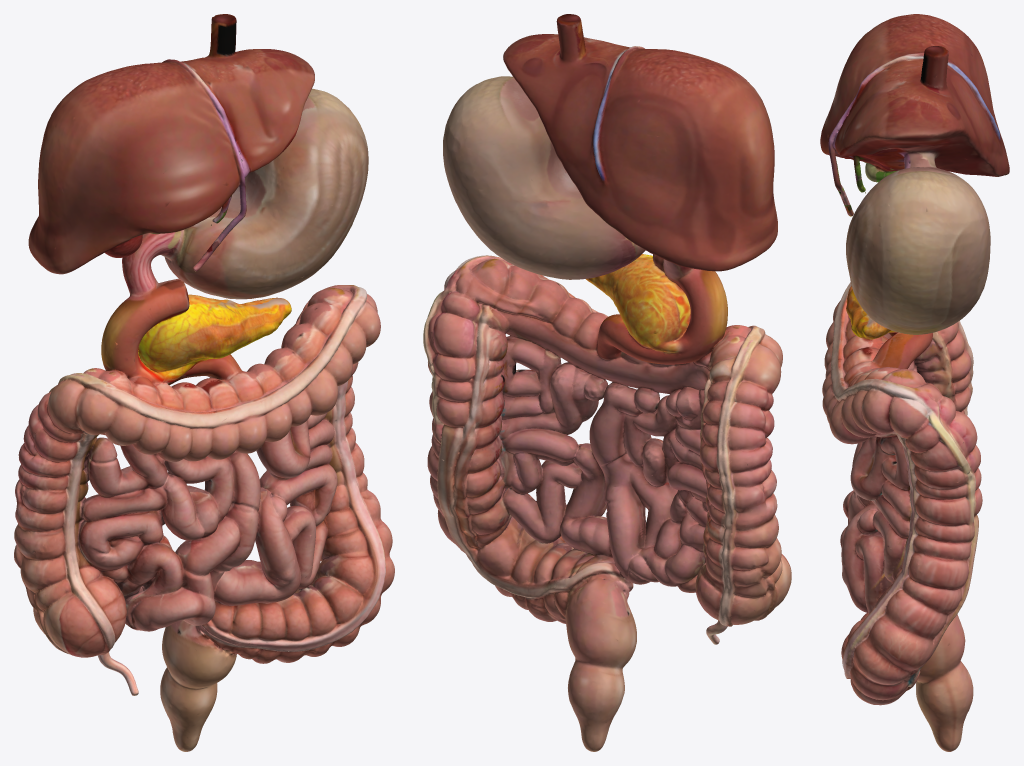
File: guts.glb
3 renders of one model, left to right at view 1: azimuth 30°, elevation 25°; view 2: azimuth 150°, elevation 25°; view 3: azimuth 270°, elevation 25°, orthographic. The views are drawn at different scales.
Size of the model in its own units: 0.9614 by 1.9 by 0.4564.
1 material, 1 textured.
